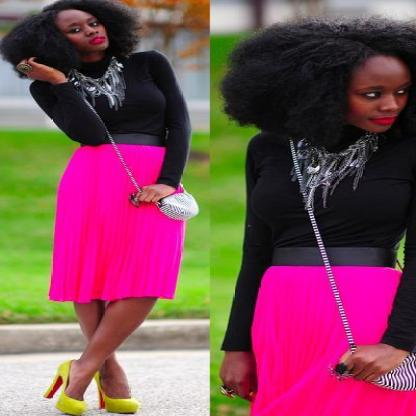bag: (127, 192, 199, 240)
shirt: (30, 48, 187, 188)
shoe: (48, 360, 136, 416)
skirt: (49, 144, 182, 302)
